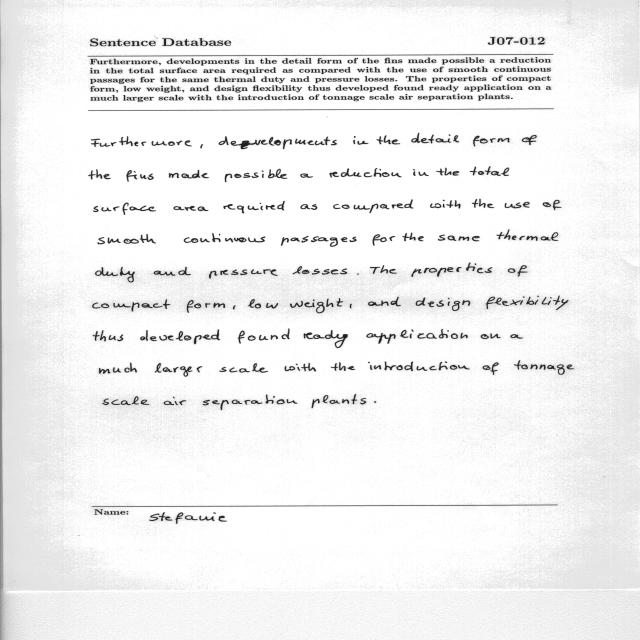word: (219, 136, 337, 149), (366, 329, 468, 344), (203, 394, 297, 410), (140, 330, 220, 345), (486, 296, 569, 310), (412, 263, 493, 277), (91, 136, 192, 147), (333, 200, 413, 213), (368, 362, 470, 372), (93, 300, 170, 312), (514, 360, 574, 375), (281, 236, 356, 247), (184, 233, 265, 243), (225, 169, 287, 182), (290, 298, 343, 313), (304, 330, 348, 348), (238, 329, 290, 344), (93, 203, 156, 215), (416, 297, 470, 311), (312, 394, 366, 408), (224, 201, 285, 213), (330, 168, 402, 178), (209, 269, 278, 279), (497, 230, 558, 241), (155, 363, 202, 377), (96, 267, 135, 282), (98, 234, 156, 244), (411, 133, 459, 144), (187, 300, 225, 313), (219, 363, 268, 373), (293, 266, 347, 275), (99, 363, 137, 374), (103, 396, 149, 405), (470, 166, 509, 176), (473, 136, 510, 146), (126, 170, 154, 182), (154, 267, 191, 276), (93, 331, 123, 342), (169, 170, 209, 178), (368, 297, 401, 306), (248, 299, 278, 308), (438, 235, 480, 241), (430, 200, 461, 208), (285, 363, 316, 371), (370, 265, 397, 274), (373, 235, 395, 246), (89, 170, 111, 180), (331, 362, 355, 371), (508, 266, 527, 277), (483, 362, 499, 375), (377, 136, 400, 145), (472, 199, 494, 208), (543, 200, 562, 210), (437, 168, 460, 176), (164, 397, 186, 405), (174, 206, 209, 211), (403, 233, 424, 241), (522, 135, 537, 145), (505, 202, 530, 208), (354, 136, 369, 145), (481, 333, 501, 339), (413, 169, 429, 176), (301, 204, 318, 210), (300, 173, 313, 178), (510, 334, 523, 339), (200, 144, 203, 149), (233, 306, 235, 310), (350, 304, 352, 308), (374, 401, 376, 403), (357, 274, 359, 275)
